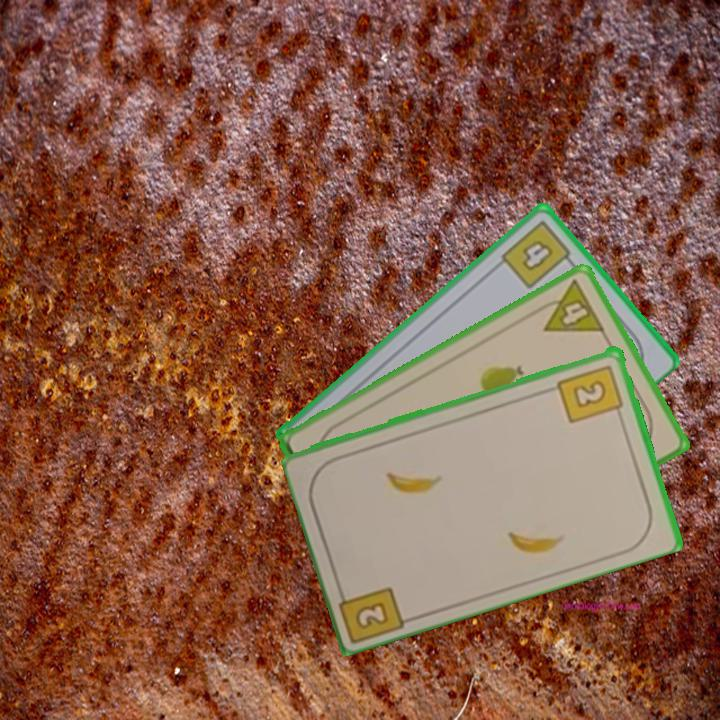2b: (334, 580, 410, 643), (554, 361, 626, 426)
4b: (497, 216, 578, 292)
4p: (530, 276, 608, 335)
